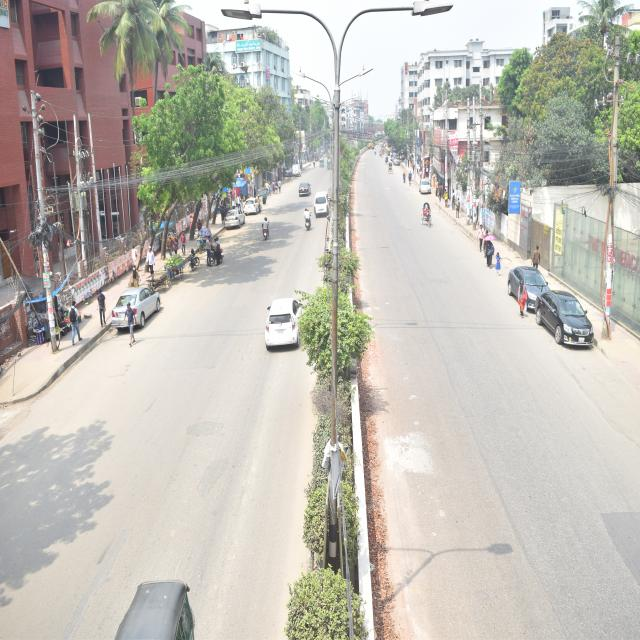car: (258, 290, 332, 383), (108, 273, 170, 358), (541, 280, 599, 355), (499, 250, 557, 322), (219, 194, 248, 245), (285, 170, 314, 202), (314, 176, 335, 218), (411, 170, 434, 207), (243, 182, 262, 225)
motorbike: (203, 230, 230, 282), (180, 238, 205, 286), (252, 206, 272, 257), (300, 198, 314, 248)
pickup-van: (283, 152, 302, 179)
